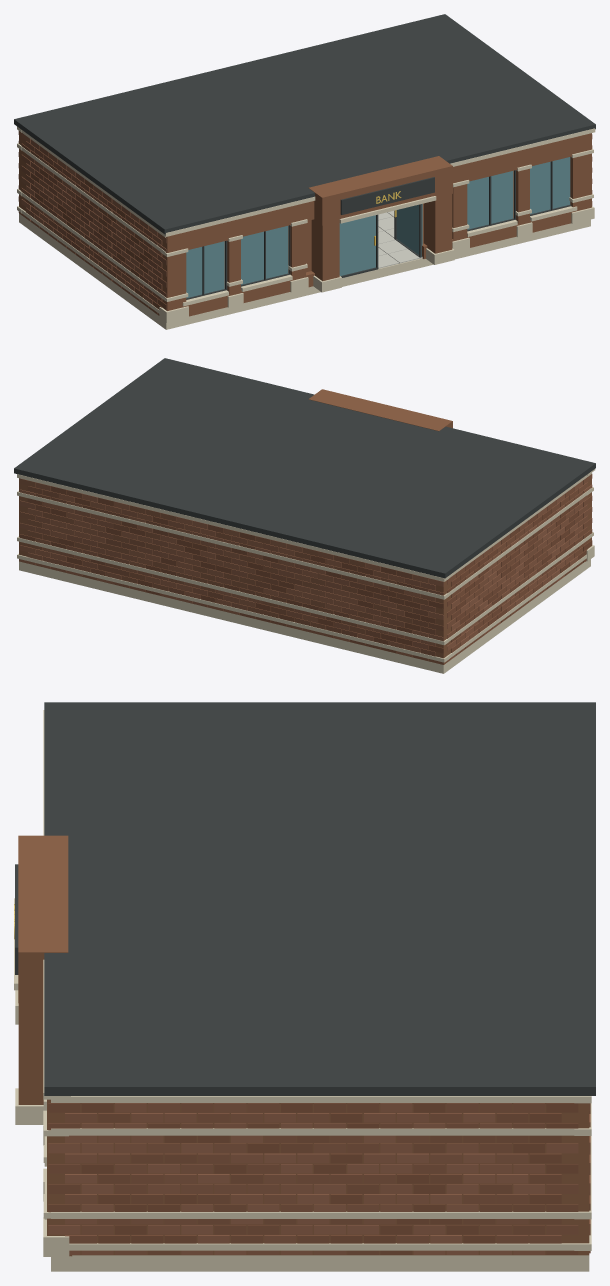
Rendered from BANK.fbx.
The picture shows the model from 3 angles, top to bottom: view 1: azimuth 30°, elevation 25°; view 2: azimuth 150°, elevation 25°; view 3: azimuth 270°, elevation 25°; orthographic projection. The views are drawn at different scales.
Parts seen in each view (by area): view 1: Roof_optional, Front lintel, Foundation, Entrance crown, Window glass.001, Window glass.002, Entry door leaf, Window glass.003, Window glass, Entrance projecting pier, Entrance projecting pier.001, Bank sign panel (+16 smaller); view 2: Roof_optional, Rear wall, Foundation, Rear limestone band, Rear limestone band.002, Rear limestone band.001, Entrance crown, Rear limestone band.003, Side limestone band.004, Side limestone band.002, Side limestone band, Side wall (+1 smaller); view 3: Roof_optional, Side wall.001, Foundation, Entrance crown, Side limestone band.005, Side limestone band.001, Side limestone band.003, Side limestone band.007, Entrance projecting pier.001, Rear wall.
Part boxes in pixels (bbox=[...]): Roof_optional: bbox=[14, 14, 595, 234]; Front lintel: bbox=[166, 133, 591, 252]; Foundation: bbox=[19, 213, 590, 329]; Entrance crown: bbox=[308, 156, 452, 225]; Window glass.001: bbox=[241, 226, 288, 284]; Window glass.002: bbox=[467, 171, 513, 229]; Entry door leaf: bbox=[339, 215, 375, 275]; Window glass.003: bbox=[530, 157, 570, 214]; Window glass: bbox=[186, 241, 224, 298]; Entrance projecting pier: bbox=[311, 219, 339, 281]; Entrance projecting pier.001: bbox=[424, 194, 452, 253]; Bank sign panel: bbox=[340, 177, 434, 214]; Roof_optional: bbox=[14, 358, 595, 578]; Rear wall: bbox=[19, 478, 446, 664]; Foundation: bbox=[19, 559, 590, 673]; Rear limestone band: bbox=[17, 554, 448, 662]; Rear limestone band.002: bbox=[17, 491, 448, 599]; Rear limestone band.001: bbox=[17, 536, 448, 645]; Entrance crown: bbox=[308, 389, 452, 431]; Rear limestone band.003: bbox=[17, 474, 448, 581]; Side limestone band.004: bbox=[449, 488, 591, 595]; Side limestone band.002: bbox=[449, 533, 591, 641]; Side limestone band: bbox=[448, 554, 586, 658]; Side wall: bbox=[437, 480, 590, 664]; Roof_optional: bbox=[44, 702, 595, 1095]; Side wall.001: bbox=[51, 1103, 589, 1255]; Foundation: bbox=[51, 1255, 589, 1271]; Entrance crown: bbox=[18, 835, 68, 1003]; Side limestone band.005: bbox=[51, 1128, 574, 1135]; Side limestone band.001: bbox=[69, 1243, 588, 1250]; Side limestone band.003: bbox=[51, 1211, 574, 1218]; Side limestone band.007: bbox=[51, 1096, 574, 1102]; Entrance projecting pier.001: bbox=[18, 1003, 43, 1104]; Rear wall: bbox=[575, 1103, 589, 1255].
Size of the model in its own units: 2030 by 463 by 1297.
